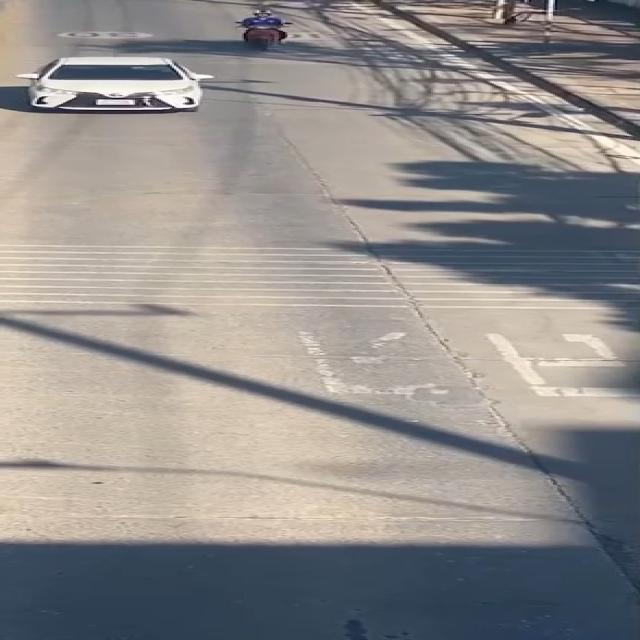car: (0, 50, 233, 120)
